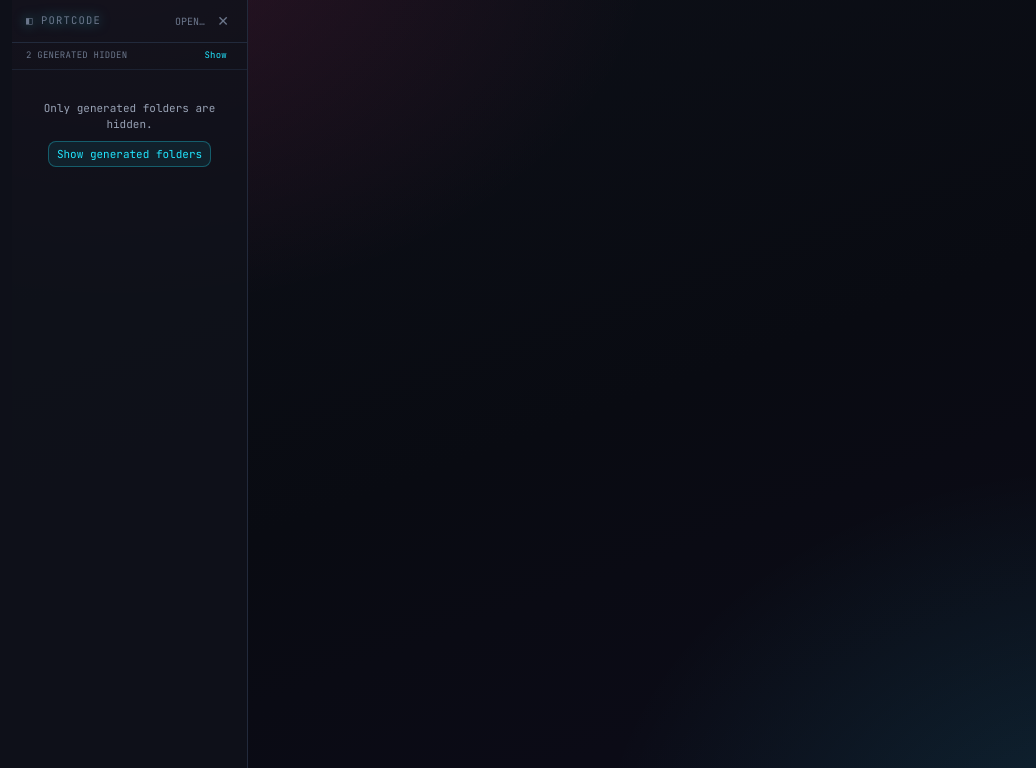
Scenario: FileExplorer generated-directory view › offers an inline reveal when every root is generated
This screenshot has width=1036, height=768.
Expected: the text "Only generated folders are hidden." is shown, x1=44 y1=100 x2=215 y2=131
Click the button "Show generated folders" at (130, 154), box x1=48 y1=140 x2=211 y2=167
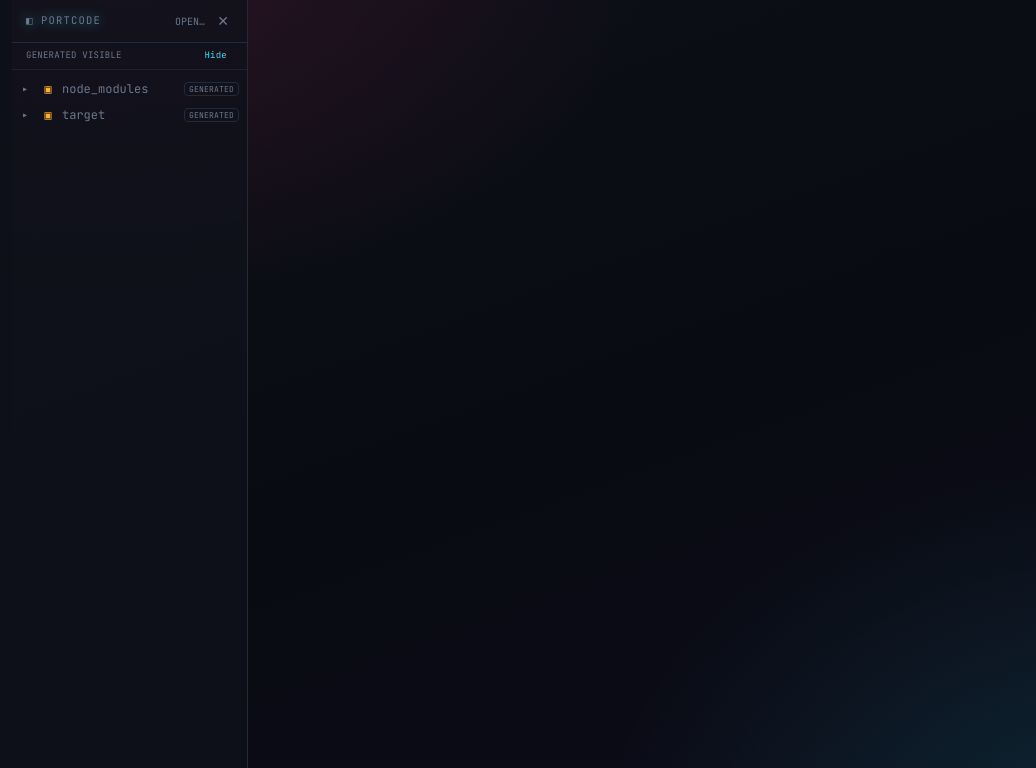
Result: the list item with aria-label "node_modules folder, generated" is shown at x1=12 y1=76 x2=247 y2=102
